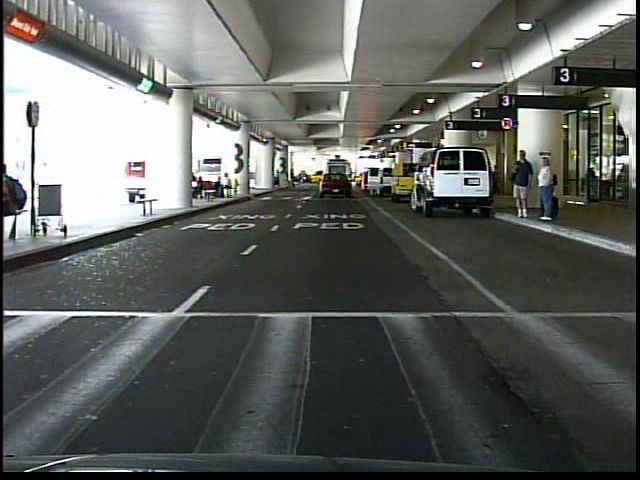person: (507, 146, 534, 222), (535, 151, 558, 225), (339, 171, 348, 193)
